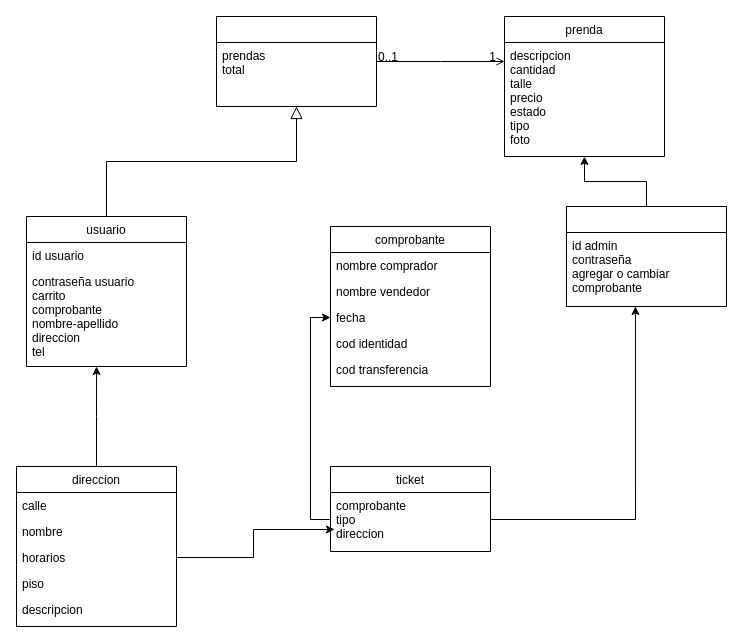
This 743x643 diagram has some shape labels left out. The box of each missing label's shape, as (x1, y1, x2, y2) in pixels:
administrador: (566, 206, 726, 306)
carrito: (216, 16, 376, 106)
